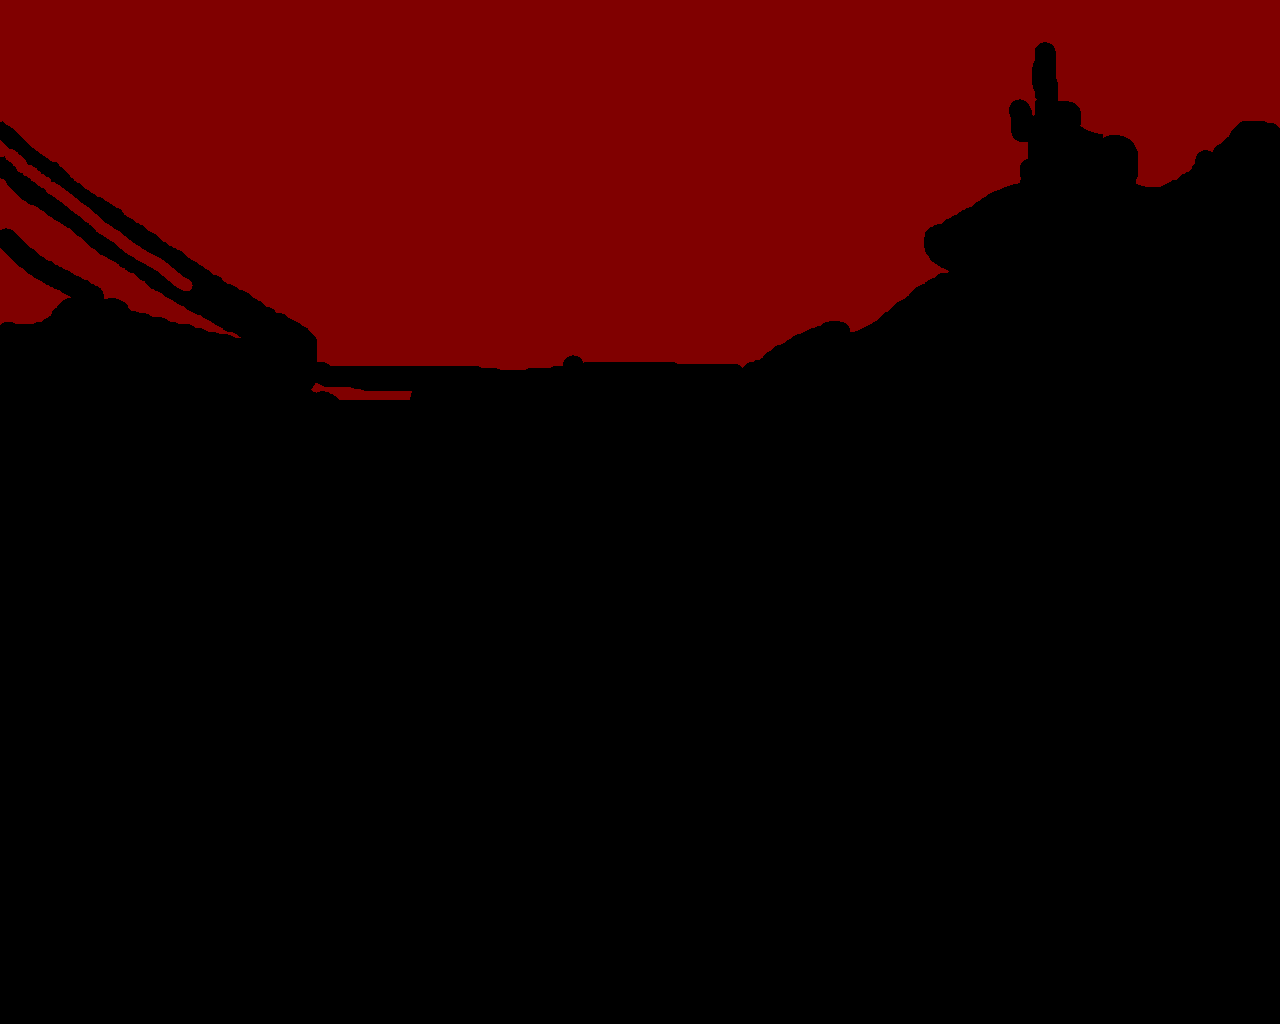Sky: (1, 1, 1279, 400)
